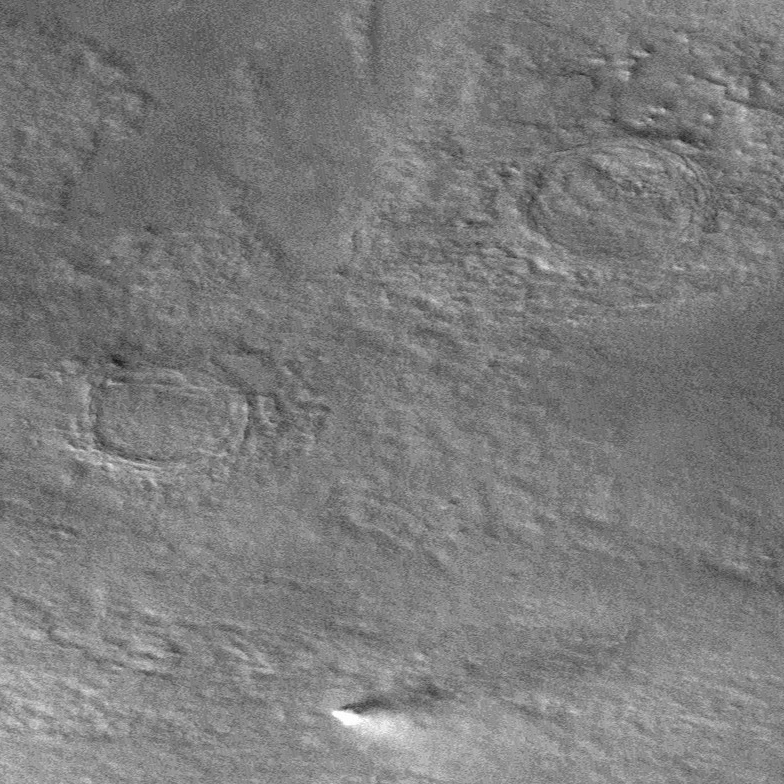dust_devil: (328, 683, 444, 741)
